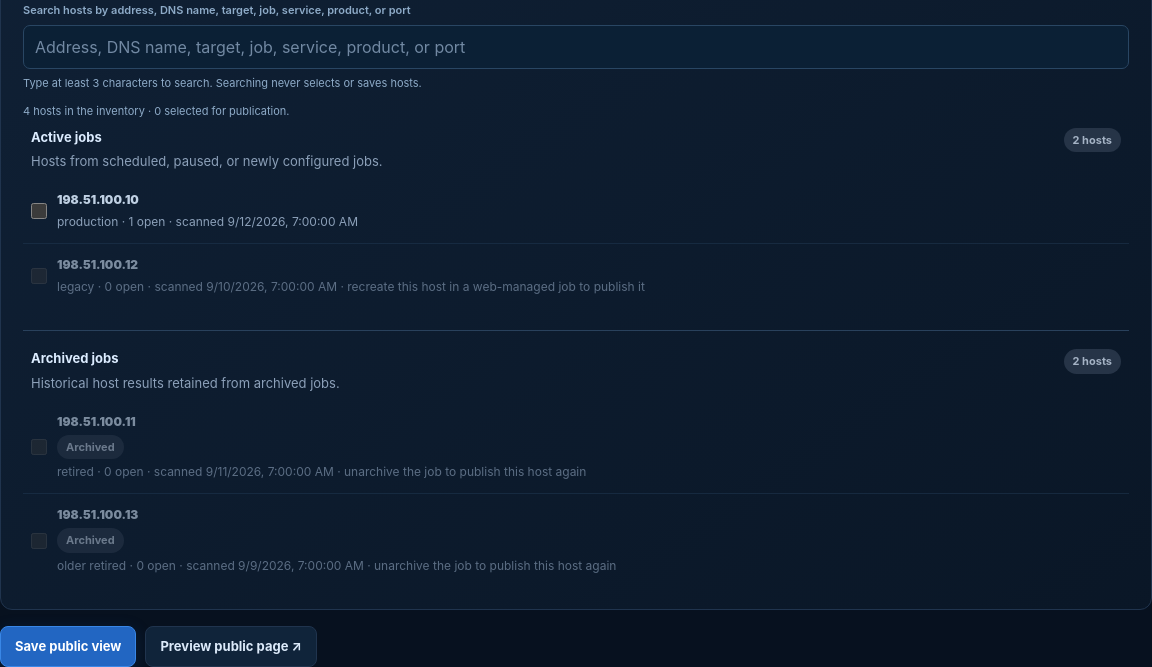
public dashboard pages › shows the field-specific reason when the API rejects the text
(page scrolled)
Click the button "Save public view".
click(68, 647)  # box [0, 626, 136, 666]
(page scrolled)
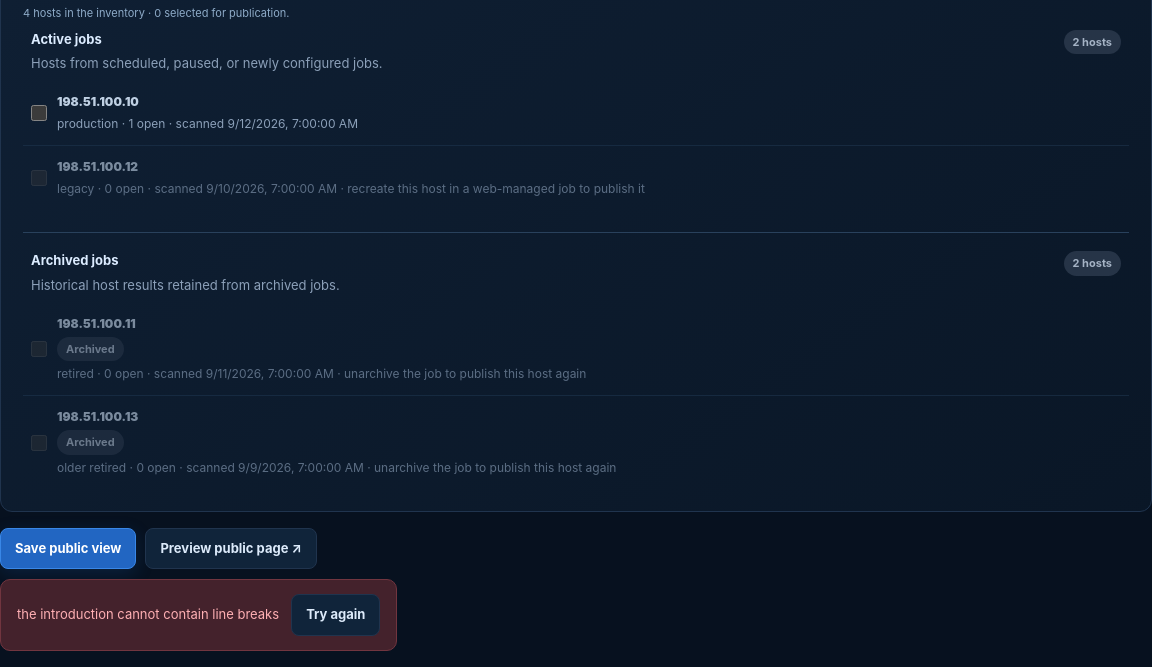
Now the message "the introduction cannot contain line breaks Try again" is shown, box [0, 579, 397, 651]
Click the button "Try again".
click(336, 615)  # box [291, 594, 380, 636]
(page scrolled)
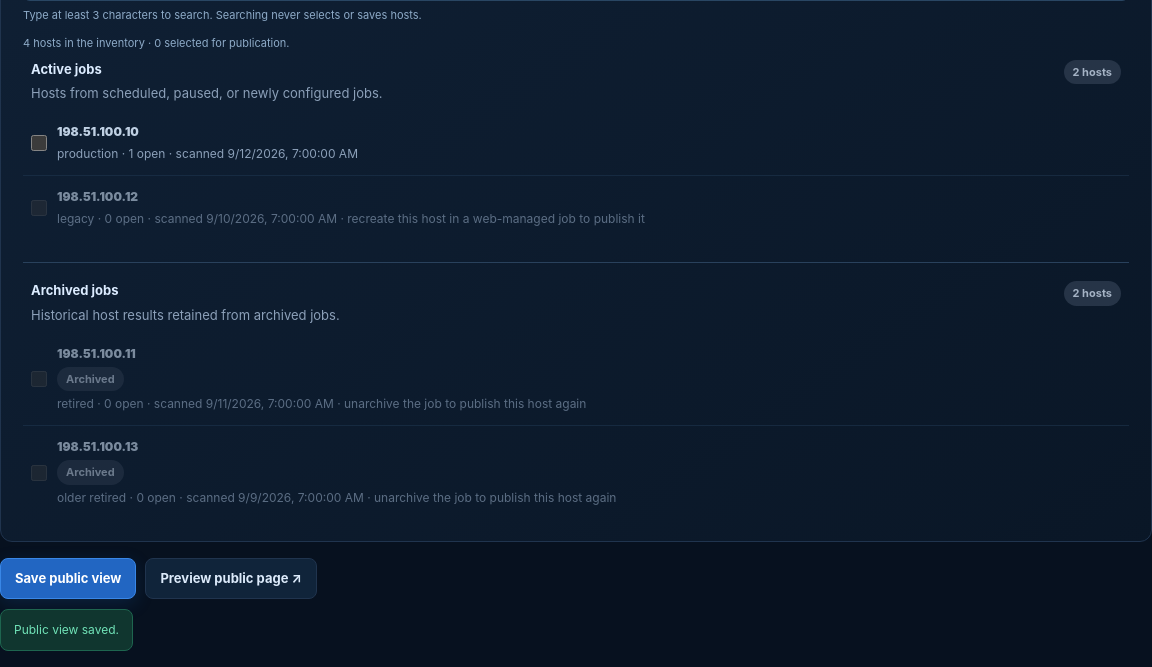
Now the text "Public view saved." is shown, box [0, 609, 133, 651]
